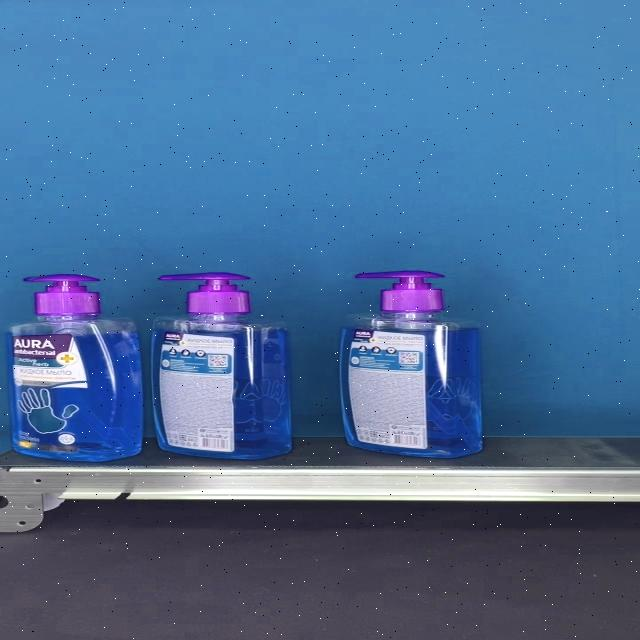Bottle: (338, 270, 482, 458), (150, 273, 292, 459), (8, 273, 143, 461)
Cap: (354, 270, 446, 312), (158, 273, 249, 315), (20, 273, 100, 314)
